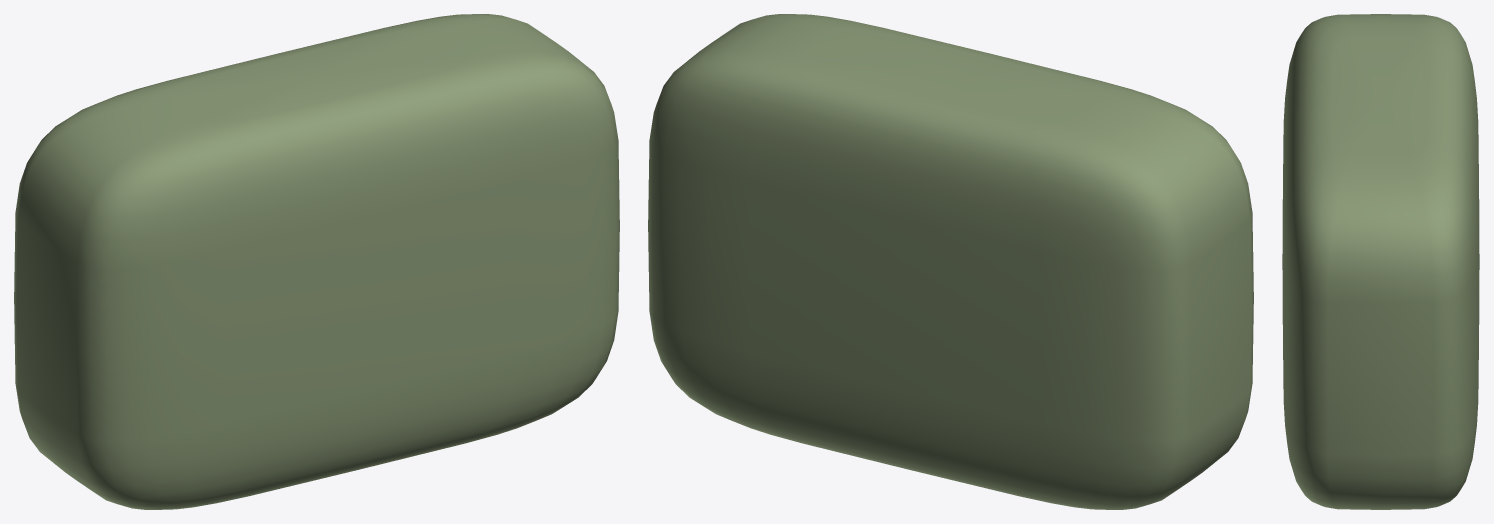
The model's file is hedge.glb.
3 views of the same model, side by side, from view 1: azimuth 30°, elevation 25°; view 2: azimuth 150°, elevation 25°; view 3: azimuth 270°, elevation 25° (orthographic). The views are drawn at different scales.
Parts seen in each view (by area): view 1: continuous-hedge; view 2: continuous-hedge; view 3: continuous-hedge.
Part boxes in pixels (x1=…): continuous-hedge: x1=14, y1=14, x2=619, y2=509; continuous-hedge: x1=648, y1=14, x2=1253, y2=509; continuous-hedge: x1=1282, y1=14, x2=1479, y2=509.
Size of the model in its own units: 1.53 by 1 by 0.54.
